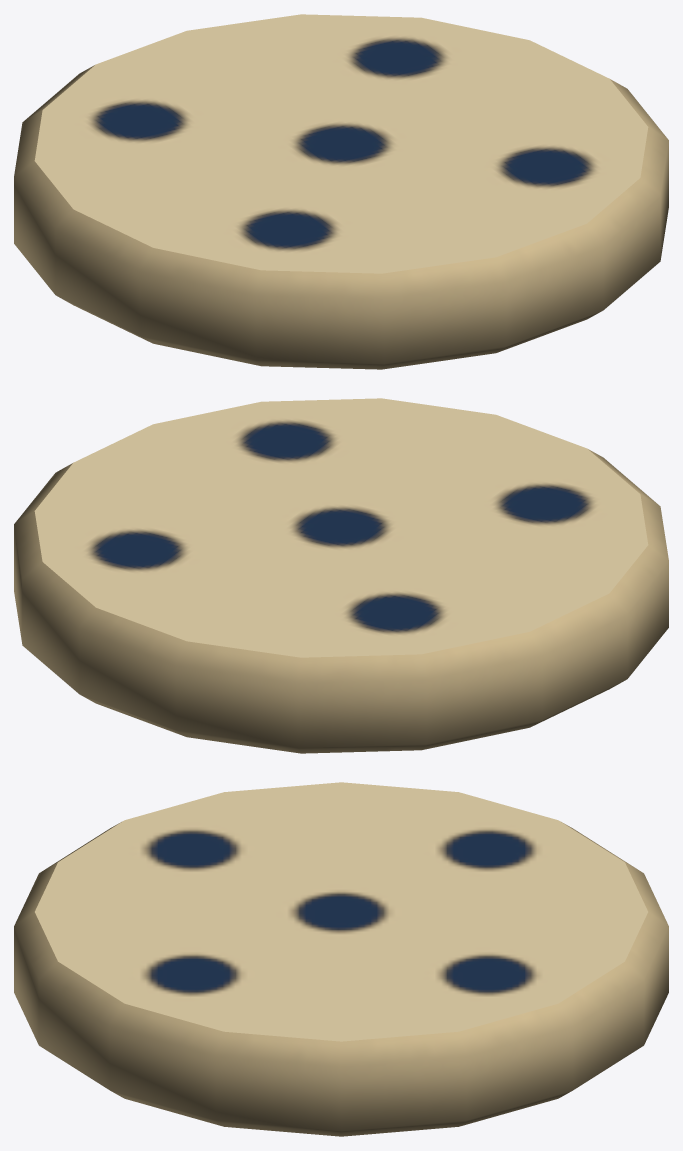
The model's file is ur_counter_shell.glb.
3 views of the same model, one above another, from view 1: azimuth 30°, elevation 25°; view 2: azimuth 150°, elevation 25°; view 3: azimuth 270°, elevation 25° (orthographic).
Parts seen in each view (by area): view 1: UR_Counter_Shell; view 2: UR_Counter_Shell; view 3: UR_Counter_Shell.
Part boxes in pixels (bbox=[...]): UR_Counter_Shell: bbox=[14, 14, 668, 369]; UR_Counter_Shell: bbox=[14, 398, 668, 753]; UR_Counter_Shell: bbox=[14, 782, 668, 1136].
Bounding box in the file's own units: 0.0206 × 0.0033 × 0.0206.
1 material, 1 textured.
